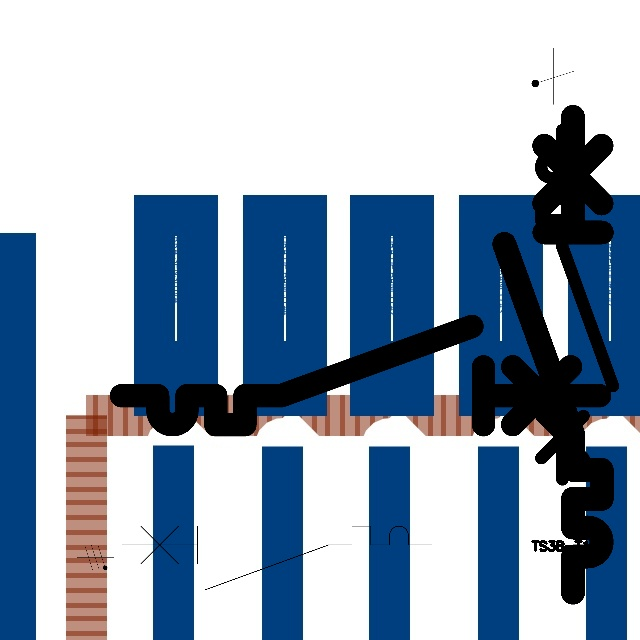interruptor_termomagnetico: (109, 314, 612, 437), (492, 104, 614, 605), (532, 121, 622, 488), (113, 518, 440, 598)
